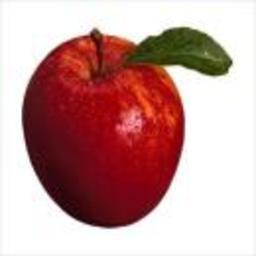apple: (20, 33, 186, 229)
